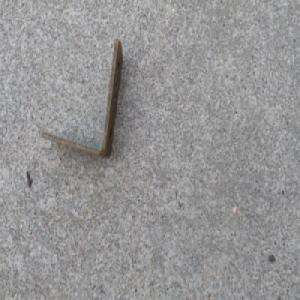MetalPart: (40, 37, 123, 161)
